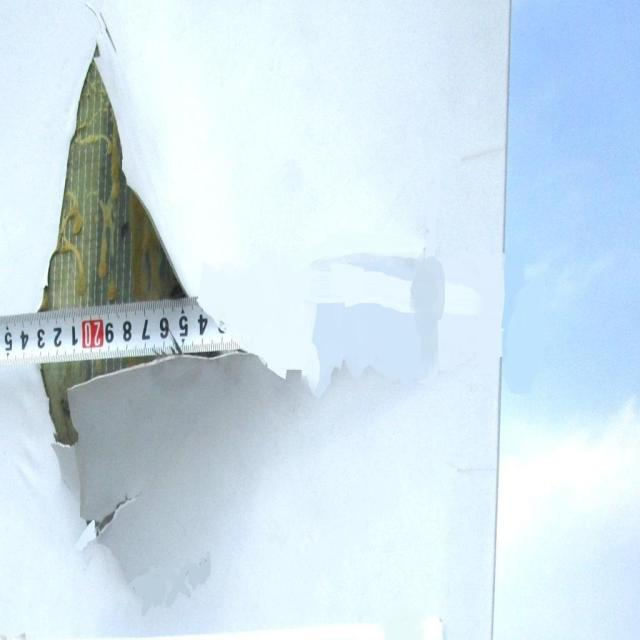crack: (6, 33, 346, 498)
